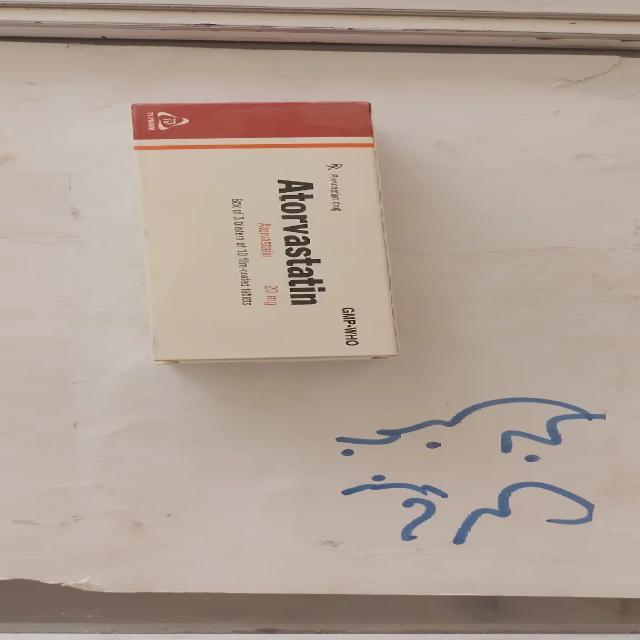drug-name: (278, 177, 329, 308)
